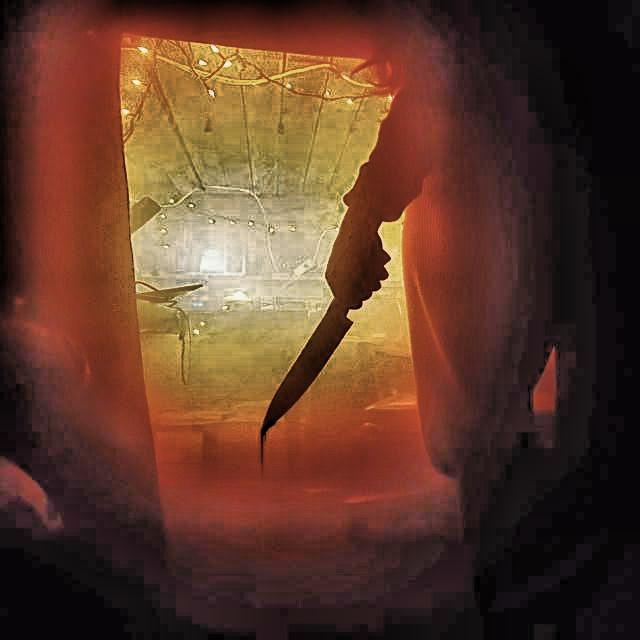knife: (254, 242, 394, 444)
